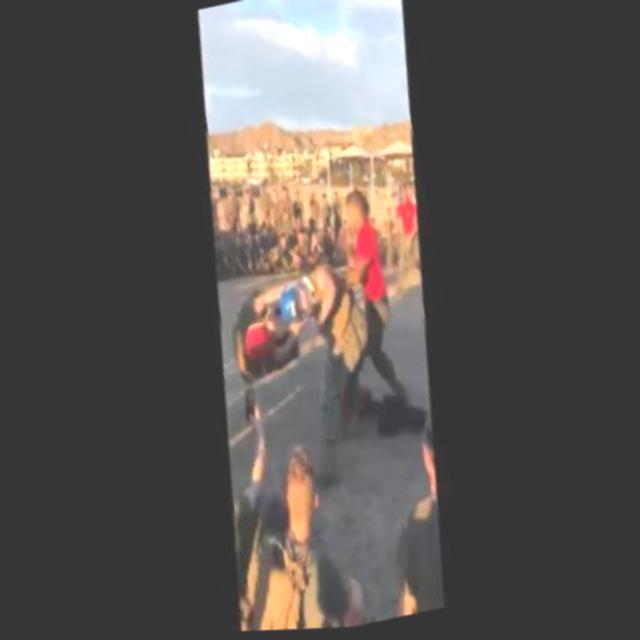fight: (216, 252, 384, 404)
